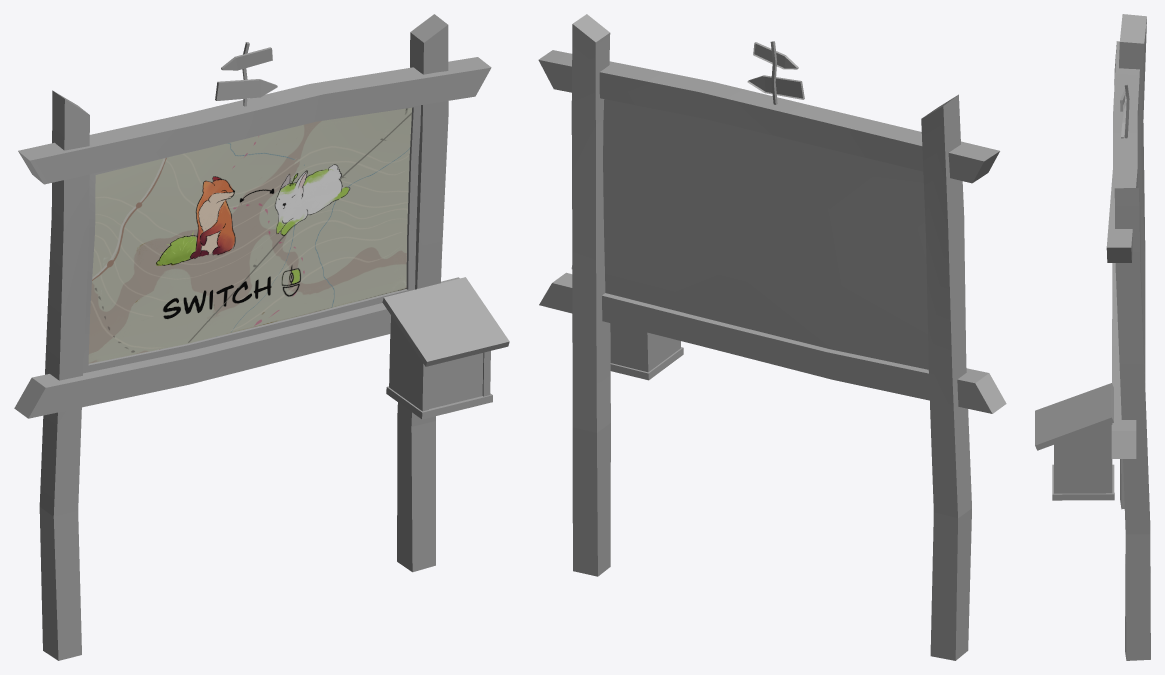
Rendered from Post_small_switch.fbx.
3 views of the same model, side by side, from view 1: azimuth 30°, elevation 25°; view 2: azimuth 150°, elevation 25°; view 3: azimuth 270°, elevation 25° (orthographic). The views are drawn at different scales.
Visible parts, largest first — view 1: Post_Small; view 2: Post_Small; view 3: Post_Small.
Part boxes in pixels (<box>): Post_Small: <box>14,14,509,660</box>; Post_Small: <box>538,14,1006,660</box>; Post_Small: <box>1035,14,1150,660</box>.
Size of the model in its own units: 4.77 by 5.63 by 1.19.
Materials: 2 (1 with a texture image).
